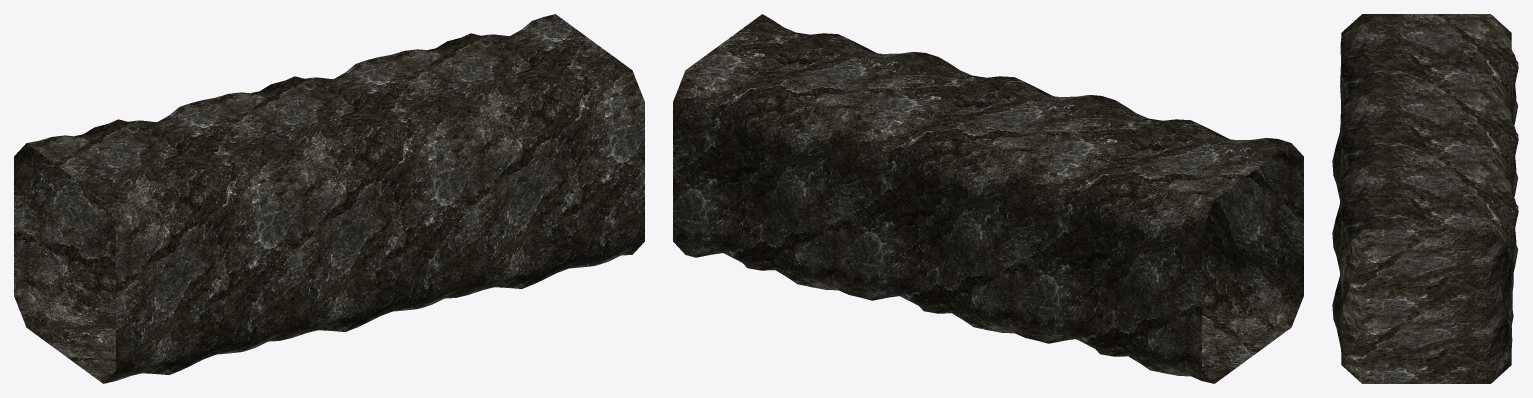
File: Cave_059.fbx
3 renders of one model, left to right at view 1: azimuth 30°, elevation 25°; view 2: azimuth 150°, elevation 25°; view 3: azimuth 270°, elevation 25°, orthographic. The views are drawn at different scales.
Visible parts, largest first — view 1: Cave.059; view 2: Cave.059; view 3: Cave.059.
Boxes of the visible parts, <box> form: Cave.059: <box>14,14,644,383</box>; Cave.059: <box>673,14,1303,383</box>; Cave.059: <box>1332,14,1518,383</box>.
Bounding box in the file's own units: 900 × 313 × 328.
